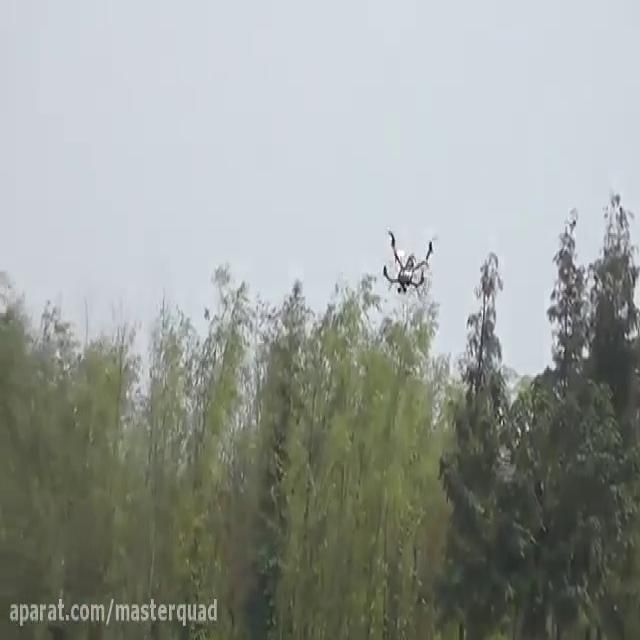drone: (376, 222, 440, 297)
